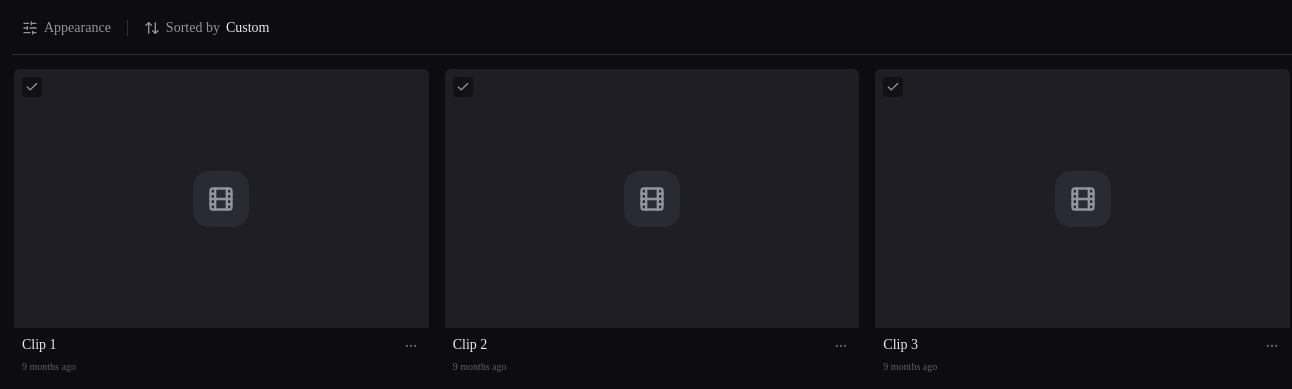
Test: AssetGrid right-click (grid view) › does not select or open the asset
The width and height of the screenshot is (1292, 389).
Right-click the text "Clip 1" at (39, 345), box x1=22 y1=336 x2=57 y2=354
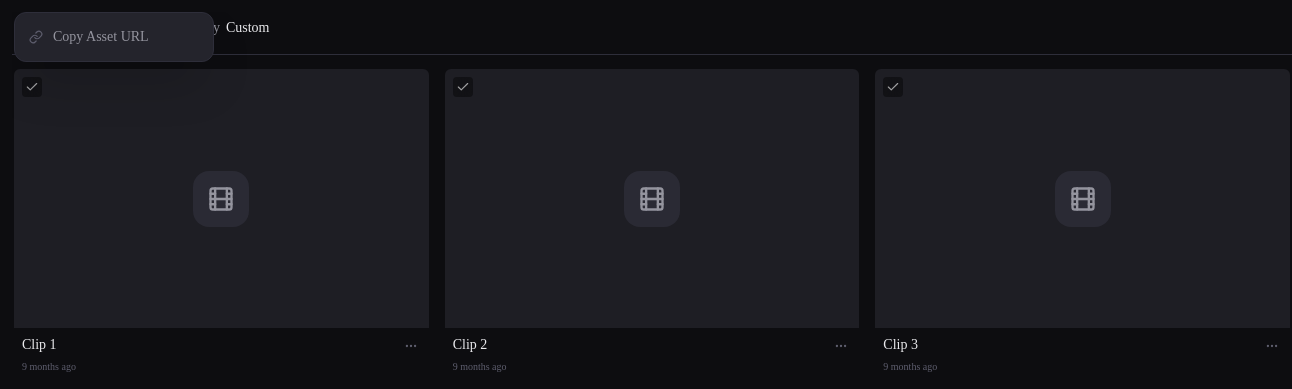
Expected: the menu is shown, x1=14 y1=12 x2=214 y2=62
